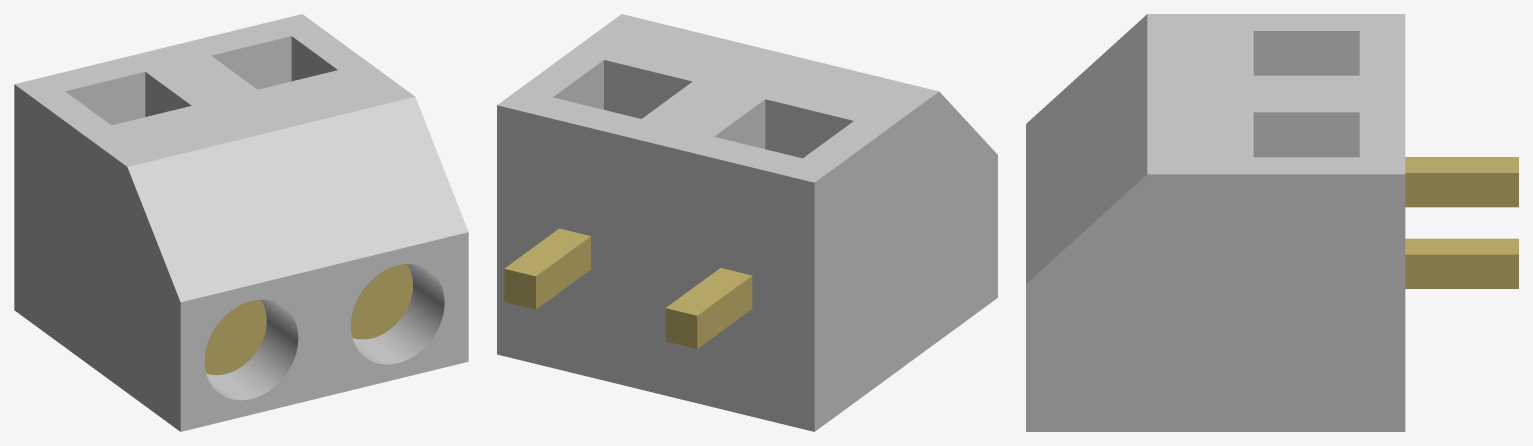
File: screw_terminal_5_08_2pin.glb
The picture shows the model from 3 angles, left to right: view 1: azimuth 30°, elevation 25°; view 2: azimuth 150°, elevation 25°; view 3: azimuth 270°, elevation 25°; orthographic projection. The views are drawn at different scales.
Visible parts, largest first — view 1: world; view 2: world; view 3: world.
Part boxes in pixels (left/top/right/bottom): world: left=14, top=14, right=468, bottom=431; world: left=497, top=14, right=997, bottom=431; world: left=1026, top=14, right=1518, bottom=431.
Bounding box in the file's own units: 10 × 7.5 × 13.
